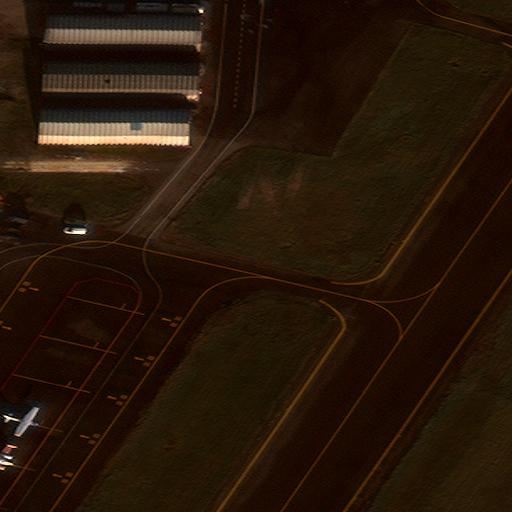Small Civil Transport: (0, 407, 40, 438), (0, 444, 15, 475)
